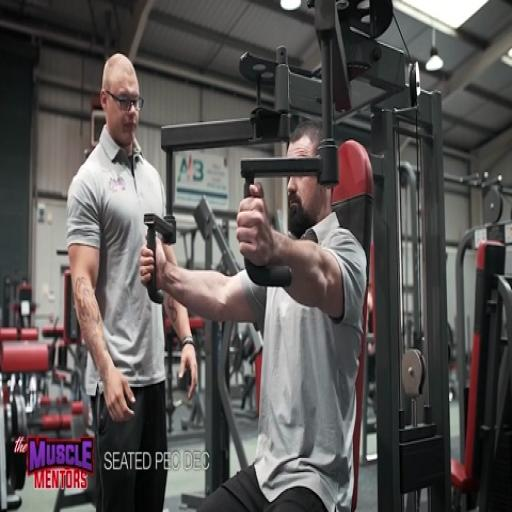exercise: (139, 118, 370, 511), (63, 51, 200, 511)
